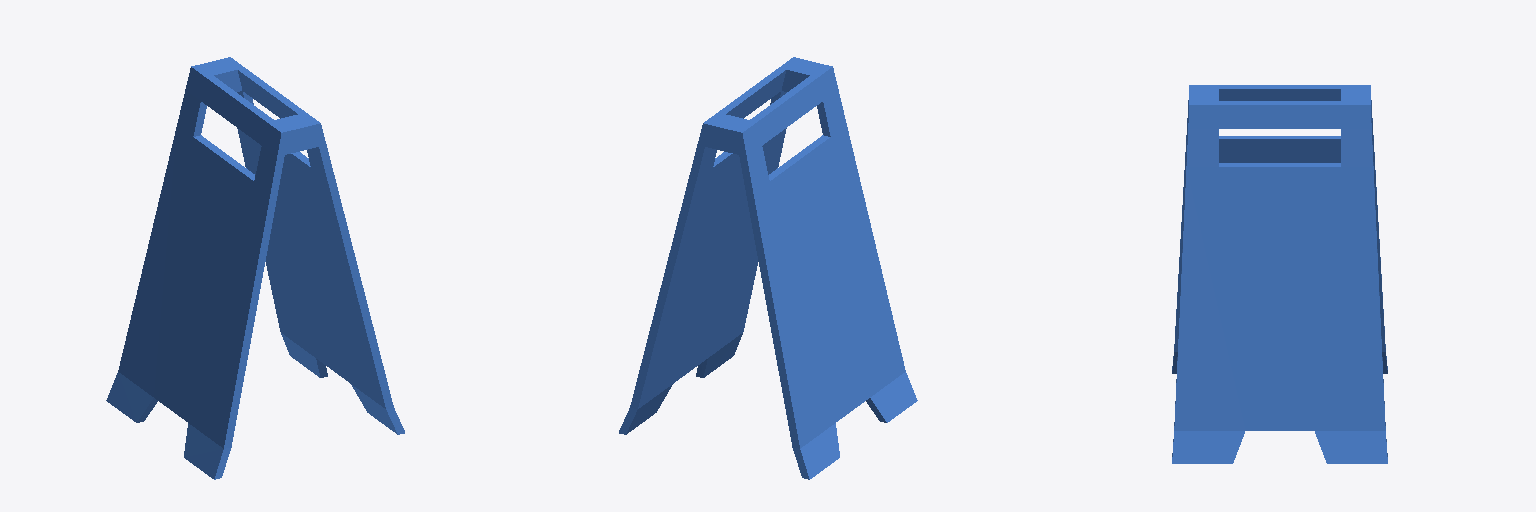
Rendered from piso_mojado.obj.
3 views of the same model, side by side, from view 1: azimuth 30°, elevation 25°; view 2: azimuth 150°, elevation 25°; view 3: azimuth 270°, elevation 25° (orthographic).
Parts seen in each view (by area): view 1: wetfloor; view 2: wetfloor; view 3: wetfloor.
Part boxes in pixels (x1,y1,x2,y2): wetfloor: (106,57,404,479); wetfloor: (619,57,917,479); wetfloor: (1172,85,1387,463).
Size of the model in its own units: 0.1887 by 0.3032 by 0.1842.